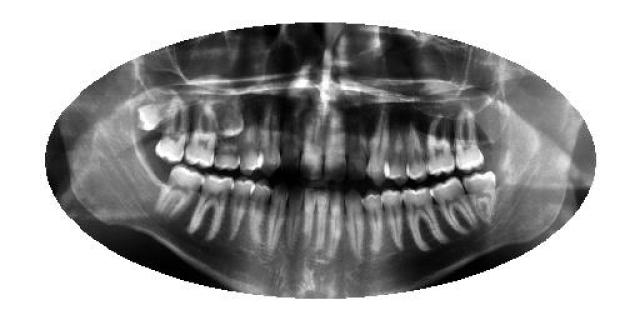Restorations: (135, 98, 180, 132)
